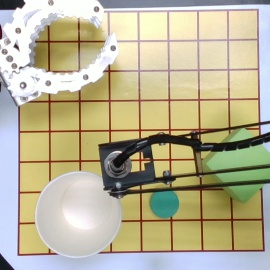cup: (34, 171, 124, 258)
green: (149, 189, 179, 218)
